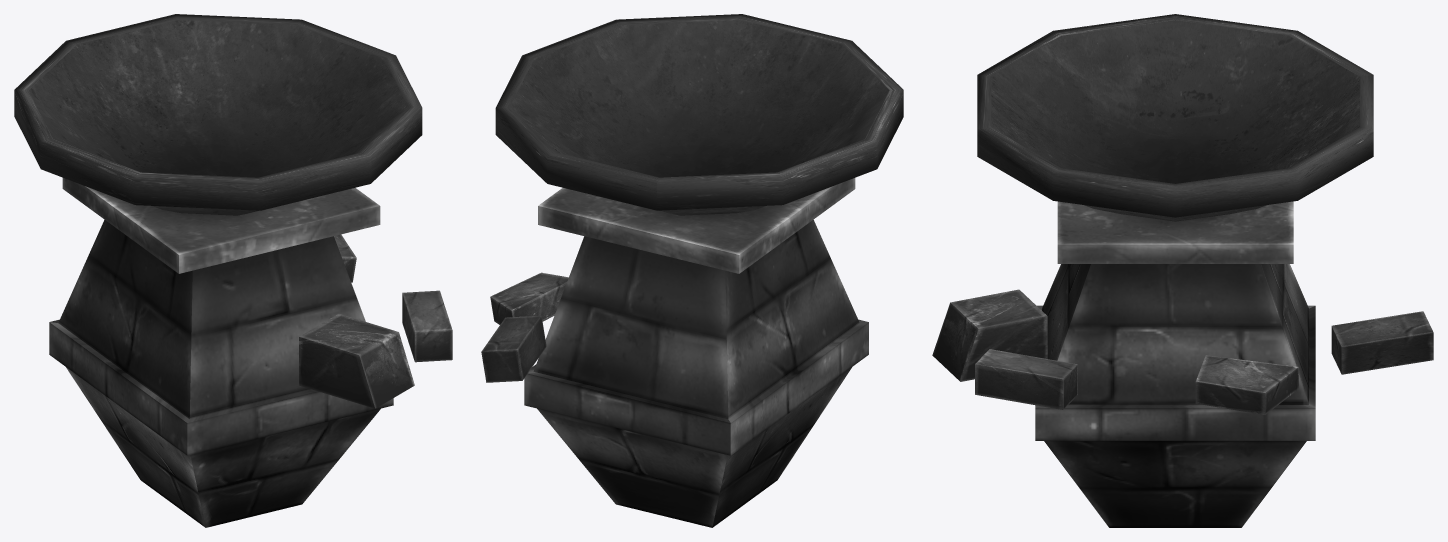
File: torch.fbx
3 renders of one model, left to right at view 1: azimuth 30°, elevation 25°; view 2: azimuth 150°, elevation 25°; view 3: azimuth 270°, elevation 25°, orthographic.
Visible parts, largest first — view 1: platform_01:platform_01:platform_01:platform_01:pCube57, platform_01:platform_01:platform_01:platform_01:pCylinder1, platform_01:platform_01:platform_01:platform_01:pCube61, platform_01:platform_01:platform_01:platform_01:pCube58; view 2: platform_01:platform_01:platform_01:platform_01:pCube57, platform_01:platform_01:platform_01:platform_01:pCylinder1, platform_01:platform_01:platform_01:platform_01:pCube59, platform_01:platform_01:platform_01:platform_01:pCube60; view 3: platform_01:platform_01:platform_01:platform_01:pCube57, platform_01:platform_01:platform_01:platform_01:pCylinder1, platform_01:platform_01:platform_01:platform_01:pCube61, platform_01:platform_01:platform_01:platform_01:pCube59, platform_01:platform_01:platform_01:platform_01:pCube58, platform_01:platform_01:platform_01:platform_01:pCube60.
Part boxes in pixels (x1=…): platform_01:platform_01:platform_01:platform_01:pCube57: x1=49, y1=178, x2=393, y2=527; platform_01:platform_01:platform_01:platform_01:pCylinder1: x1=14, y1=14, x2=422, y2=215; platform_01:platform_01:platform_01:platform_01:pCube61: x1=299, y1=313, x2=414, y2=408; platform_01:platform_01:platform_01:platform_01:pCube58: x1=402, y1=290, x2=452, y2=362; platform_01:platform_01:platform_01:platform_01:pCube57: x1=524, y1=178, x2=868, y2=527; platform_01:platform_01:platform_01:platform_01:pCylinder1: x1=495, y1=14, x2=903, y2=215; platform_01:platform_01:platform_01:platform_01:pCube59: x1=481, y1=315, x2=546, y2=382; platform_01:platform_01:platform_01:platform_01:pCube60: x1=490, y1=272, x2=568, y2=324; platform_01:platform_01:platform_01:platform_01:pCube57: x1=1035, y1=201, x2=1315, y2=527; platform_01:platform_01:platform_01:platform_01:pCylinder1: x1=977, y1=14, x2=1373, y2=221; platform_01:platform_01:platform_01:platform_01:pCube61: x1=932, y1=289, x2=1047, y2=381; platform_01:platform_01:platform_01:platform_01:pCube59: x1=1331, y1=311, x2=1433, y2=374; platform_01:platform_01:platform_01:platform_01:pCube58: x1=975, y1=349, x2=1077, y2=409; platform_01:platform_01:platform_01:platform_01:pCube60: x1=1195, y1=355, x2=1298, y2=414.
Size of the model in its own units: 1.57 by 1.67 by 1.89.
